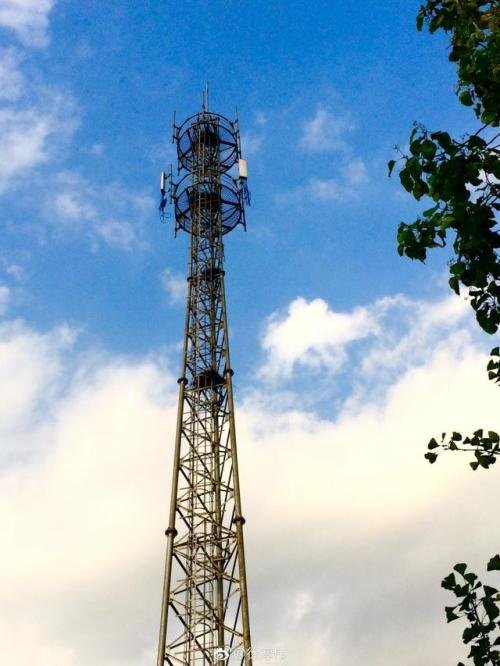bird-nest: (190, 368, 228, 388)
